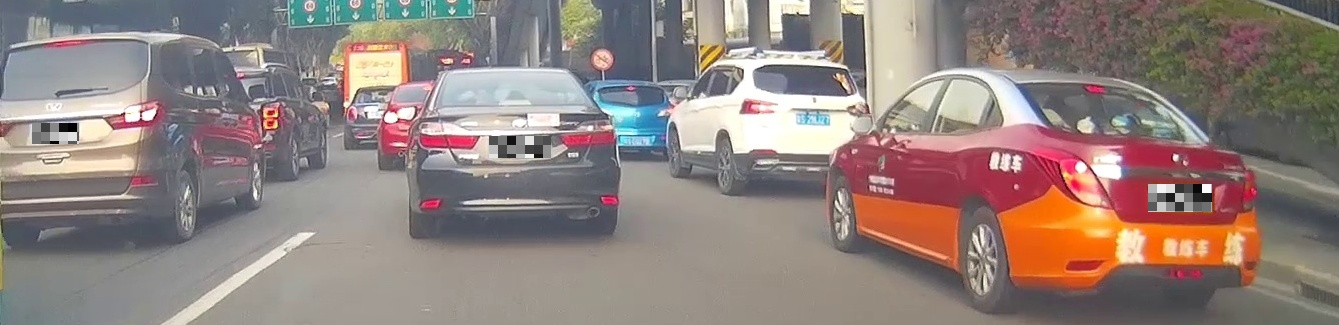L_light: (1059, 157, 1114, 209), (417, 121, 480, 151), (739, 98, 779, 114), (0, 118, 25, 138)
R_light: (102, 101, 165, 129), (559, 123, 616, 146), (1242, 168, 1257, 211), (847, 101, 870, 117)
T_light: (47, 39, 84, 47), (1083, 85, 1109, 93), (498, 98, 529, 104), (798, 64, 817, 69)
day-brake: (0, 31, 174, 252)
day-left: (982, 68, 1260, 316)
day-no: (407, 68, 620, 240), (738, 57, 871, 196)
plate_1: (32, 123, 79, 144)
plate_2: (489, 136, 551, 158)
plate_3: (1148, 184, 1212, 212)
